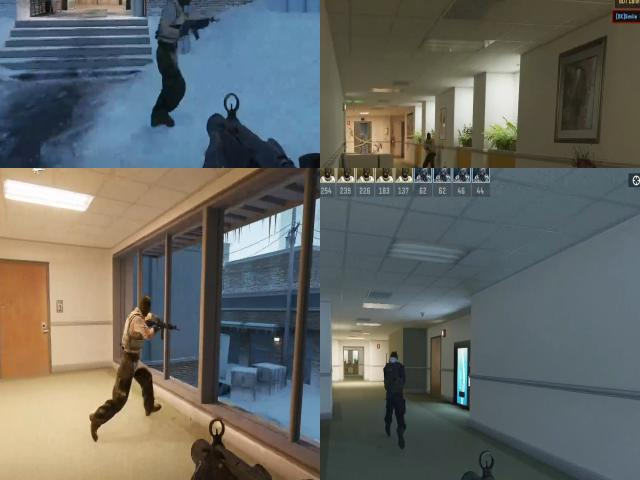CT: (383, 352, 408, 409)
CT-Head: (387, 347, 401, 369)
T: (120, 306, 166, 374), (145, 0, 200, 56), (424, 128, 438, 162)
T-Head: (133, 296, 153, 324), (173, 0, 197, 11), (424, 131, 431, 141)
